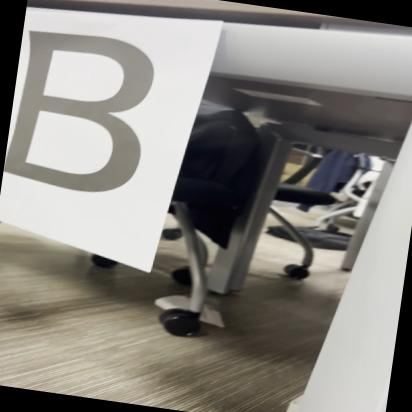seat: (3, 20, 162, 206)
